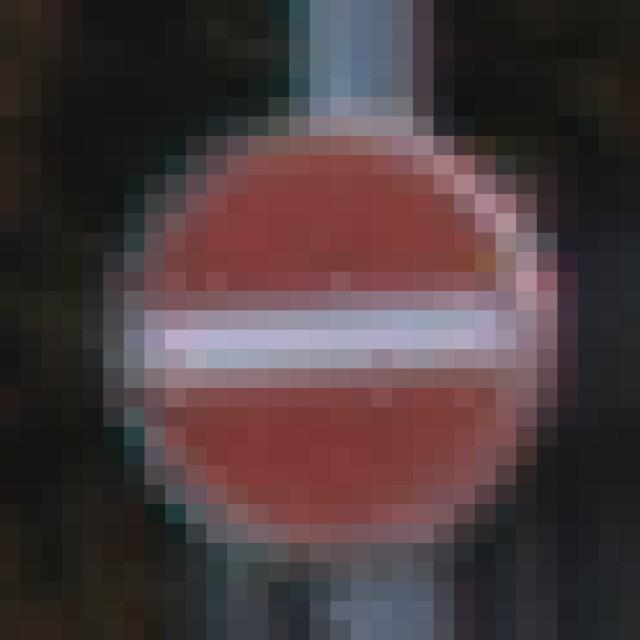No Entry: (125, 117, 538, 544)
